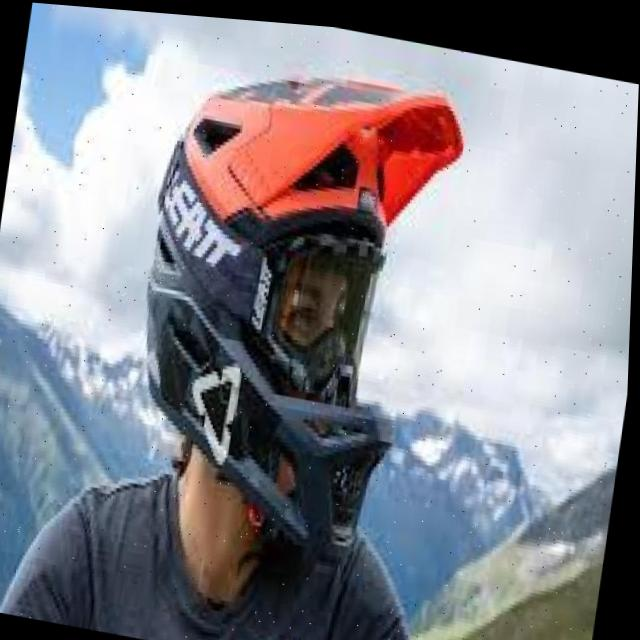helmet: (115, 34, 474, 576)
